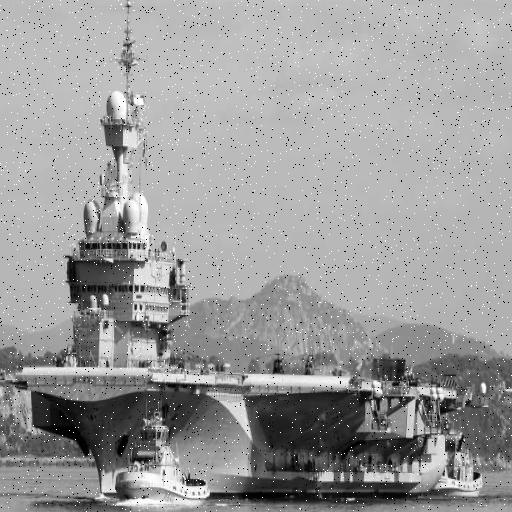Portanaves: (19, 7, 470, 505)
